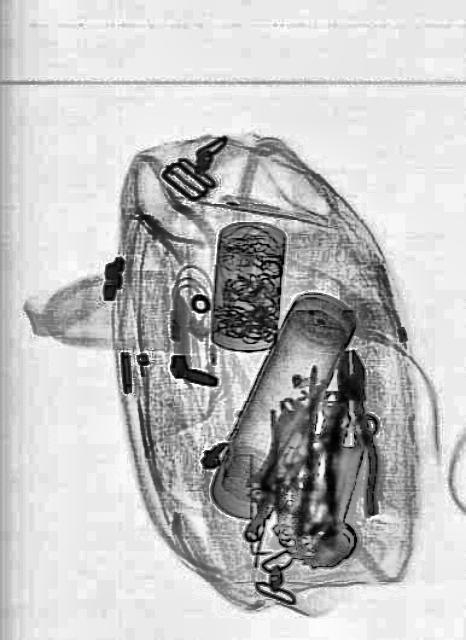Pliers: (320, 349, 378, 521)
